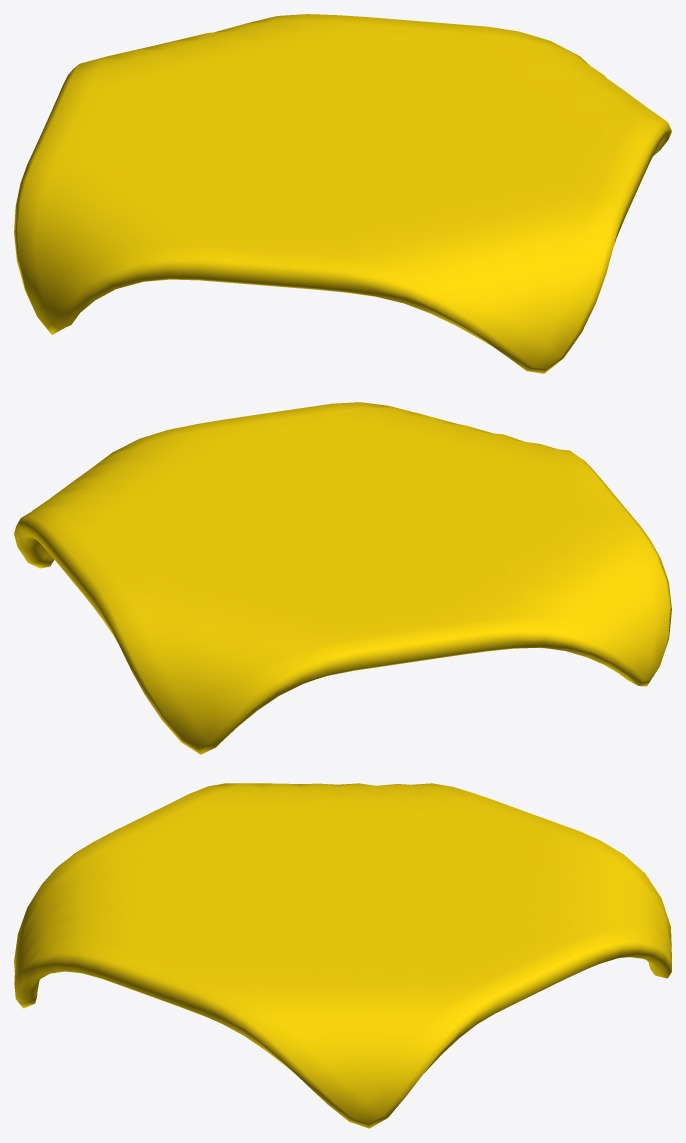
File: queso.glb
The picture shows the model from 3 angles, top to bottom: view 1: azimuth 30°, elevation 25°; view 2: azimuth 150°, elevation 25°; view 3: azimuth 270°, elevation 25°; orthographic projection. The views are drawn at different scales.
Parts seen in each view (by area): view 1: Queso; view 2: Queso; view 3: Queso.
Part boxes in pixels (<box>): Queso: <box>14,14,671,373</box>; Queso: <box>14,402,671,754</box>; Queso: <box>14,783,671,1128</box>.
Size of the model in its own units: 129 by 22.4 by 129.
